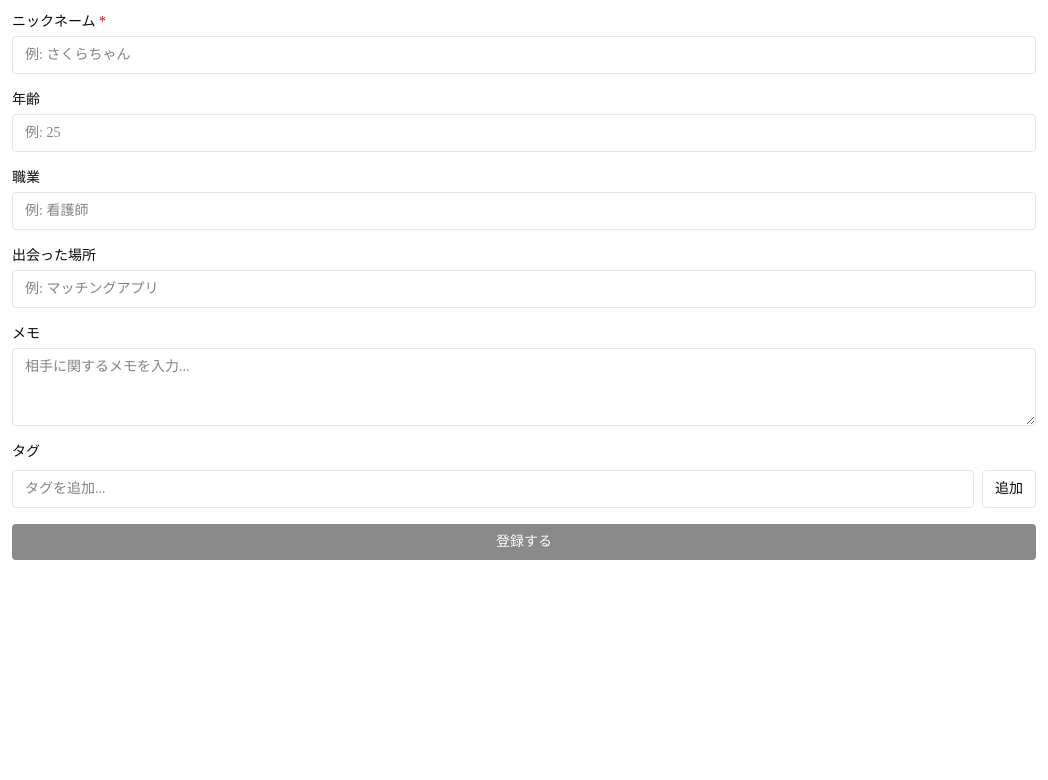
PartnerForm › submit disabled states › submit is enabled when nickname has value
Type "花子" into the field labelled "ニックネーム *" at x=524, y=55, box [12,36,1036,74]
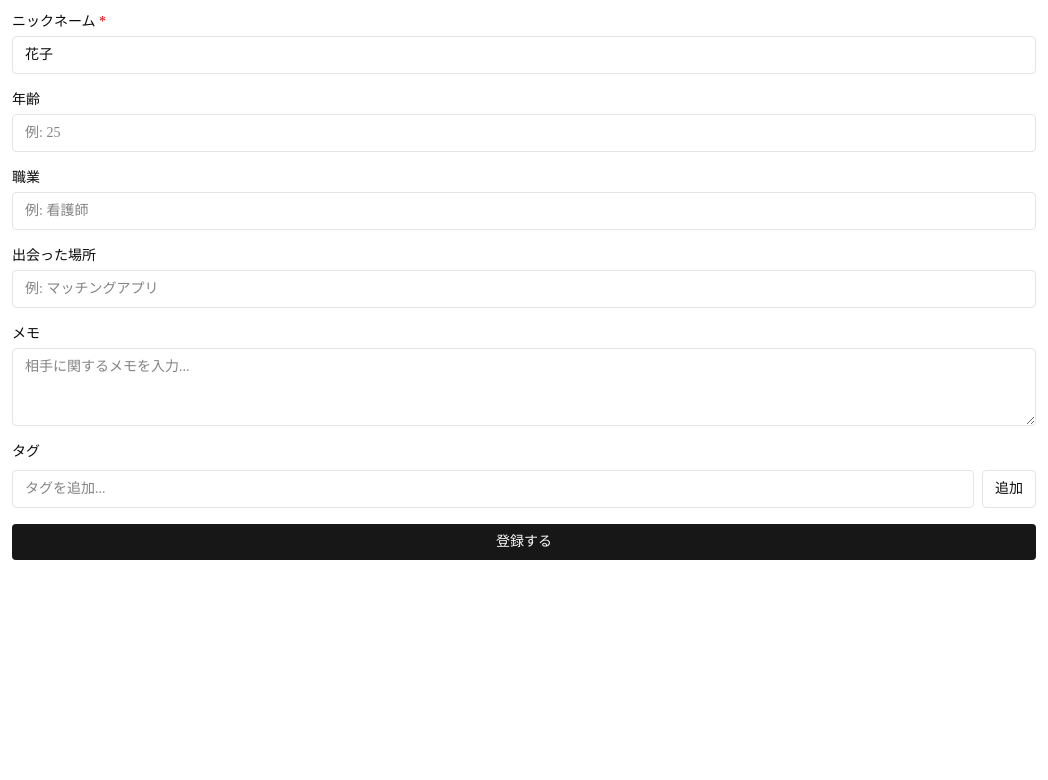
Expected: the button "登録する" is enabled, [12,524,1036,560]
